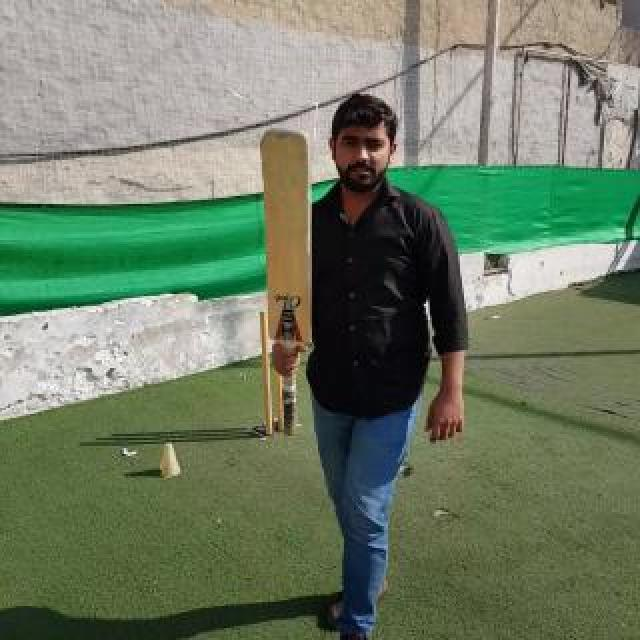bat: (260, 126, 312, 436)
